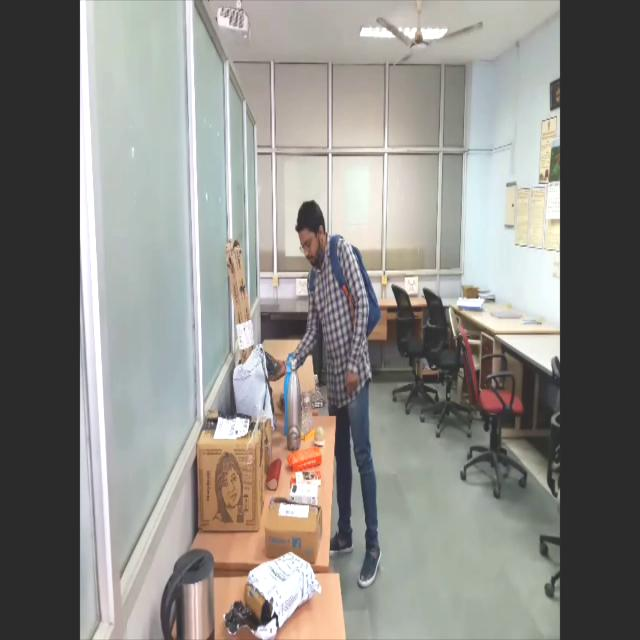normal: (281, 177, 383, 640)
